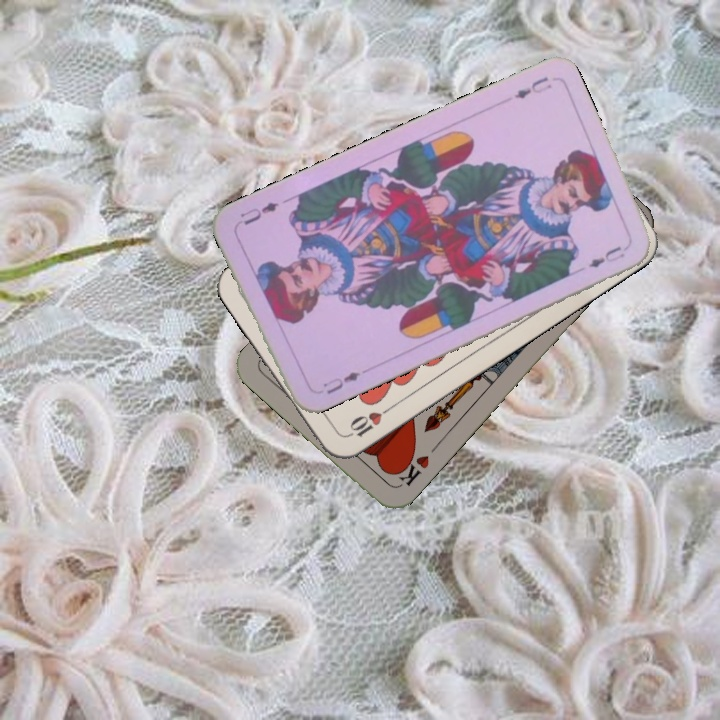EU: (319, 367, 363, 397), (510, 72, 554, 102)
H10: (341, 402, 394, 441)
HK: (390, 448, 432, 489)
